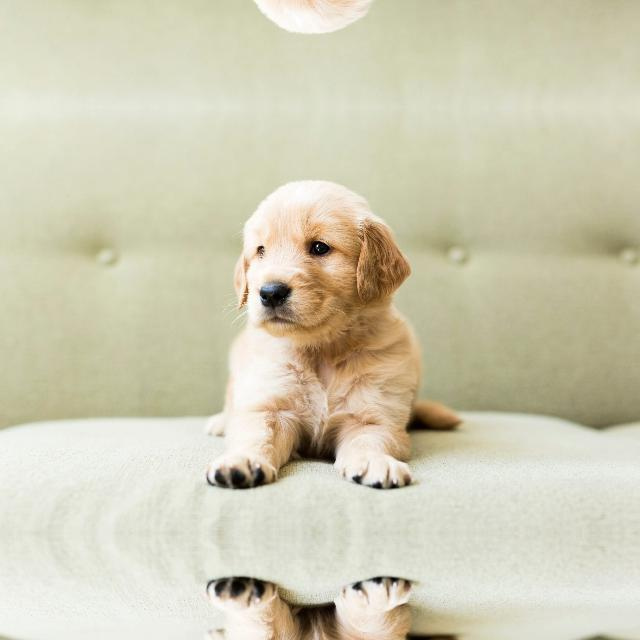dog: (198, 160, 472, 496), (198, 570, 471, 640), (198, 0, 471, 52)
